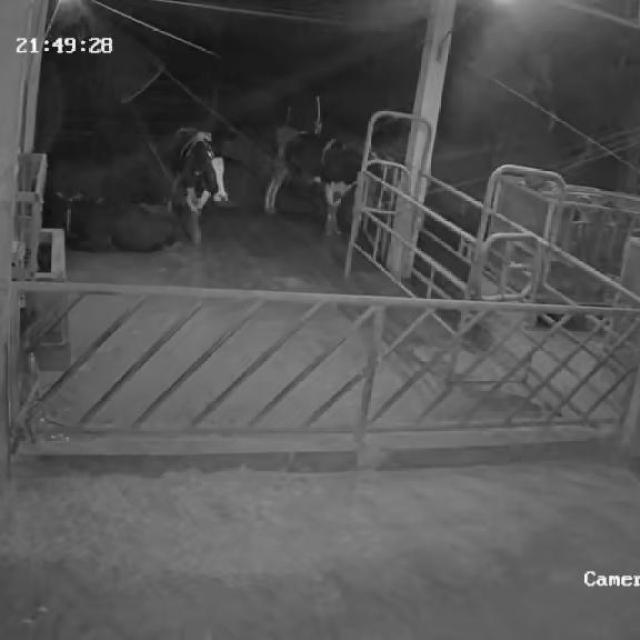lying down: (41, 181, 175, 251)
standing: (265, 124, 383, 238), (168, 120, 238, 254)
